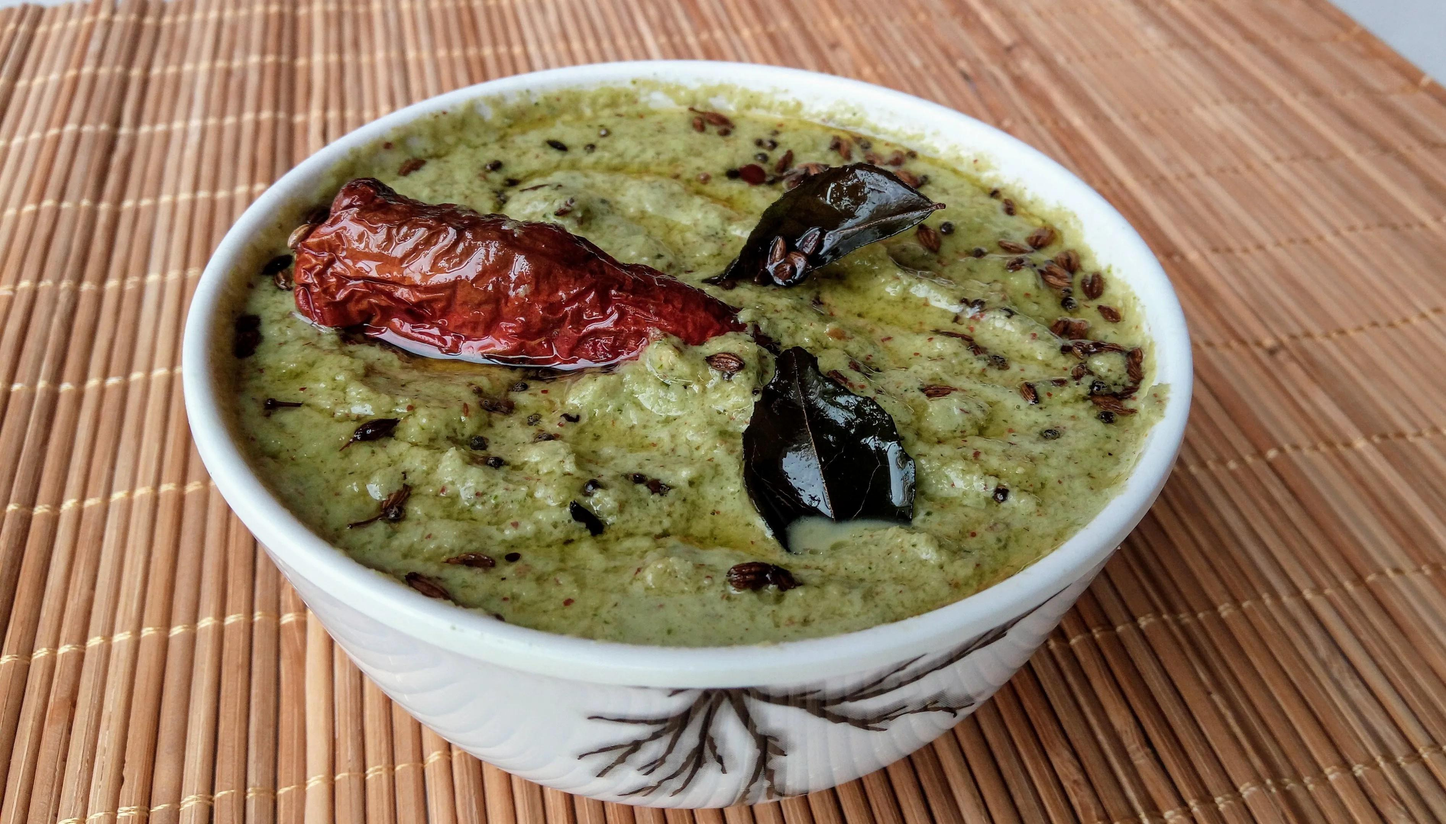CoconutChutney: (224, 94, 1133, 645)
